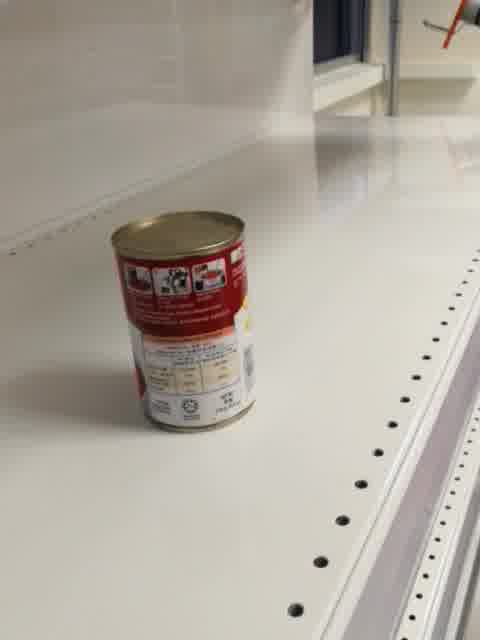tomatosoup: (107, 208, 260, 436)
